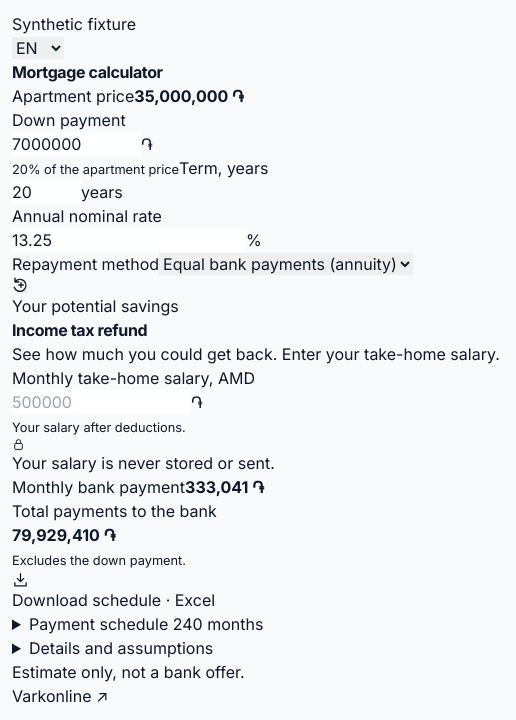
Test: Visible net-salary refund calculator › omits downloads when schedule access is disabled or values are invalid
Clear the number field labelled "Down payment": (76, 144) [12,132,141,156]
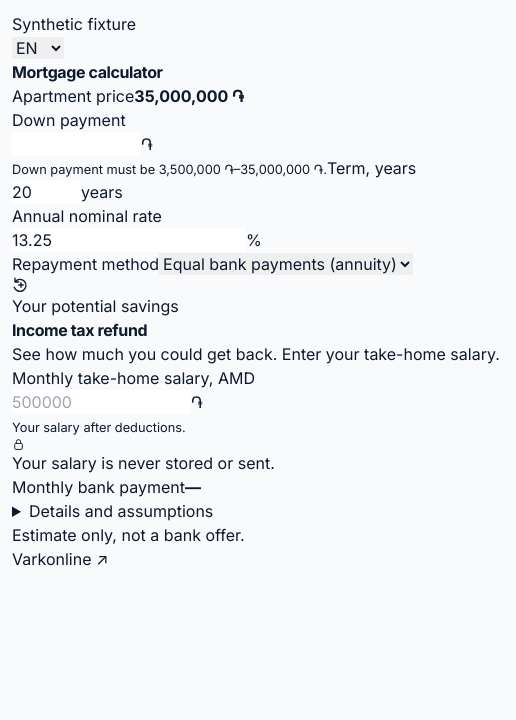
expect the button with test id "download-schedule" is gone: met
